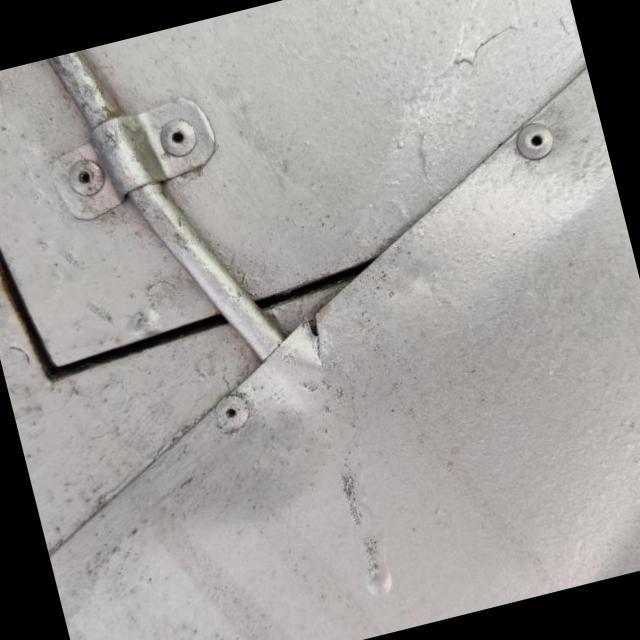Crack: (291, 310, 331, 360)
